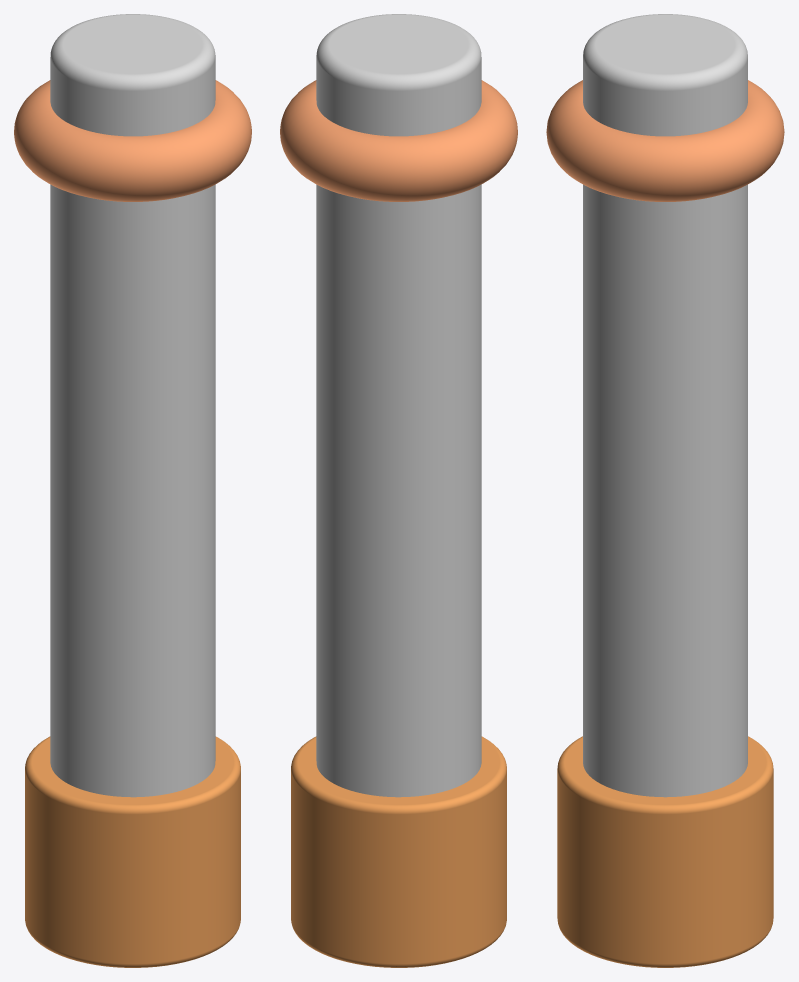
File: Piller00.glb
The picture shows the model from 3 angles, left to right: view 1: azimuth 30°, elevation 25°; view 2: azimuth 150°, elevation 25°; view 3: azimuth 270°, elevation 25°; orthographic projection.
Visible parts, largest first — view 1: Cylinder, Tube, Torus; view 2: Cylinder, Tube, Torus; view 3: Cylinder, Tube, Torus.
Boxes of the visible parts, box(x1,y1,x2,y2) form: Cylinder: box(50, 14, 215, 797); Tube: box(25, 736, 240, 967); Torus: box(14, 80, 251, 201); Cylinder: box(316, 14, 481, 797); Tube: box(291, 736, 506, 967); Torus: box(280, 80, 517, 201); Cylinder: box(583, 14, 747, 797); Tube: box(557, 736, 773, 967); Torus: box(546, 80, 784, 201).
Size of the model in its own units: 0.0741 by 0.3023 by 0.0741.
